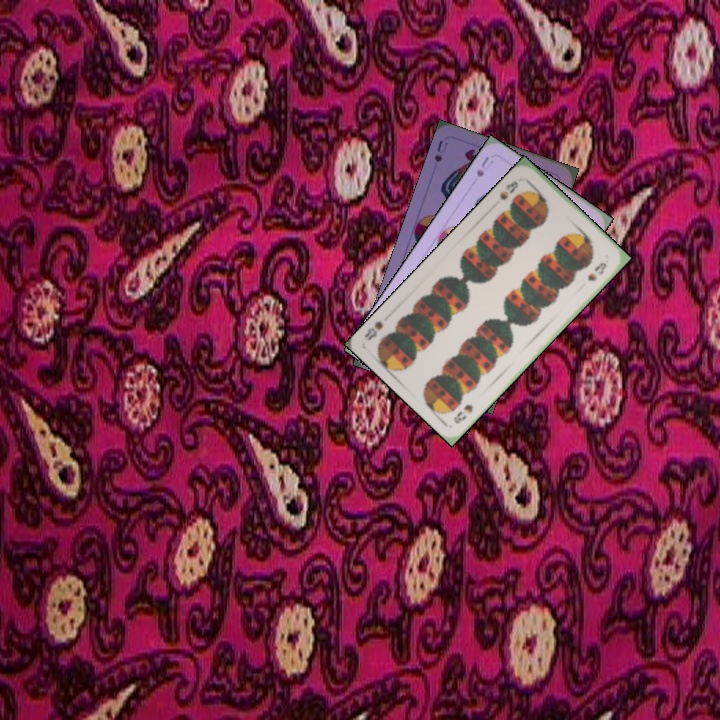S8: (495, 177, 521, 203), (450, 400, 476, 426)
SU: (472, 152, 496, 180), (430, 136, 451, 165)
